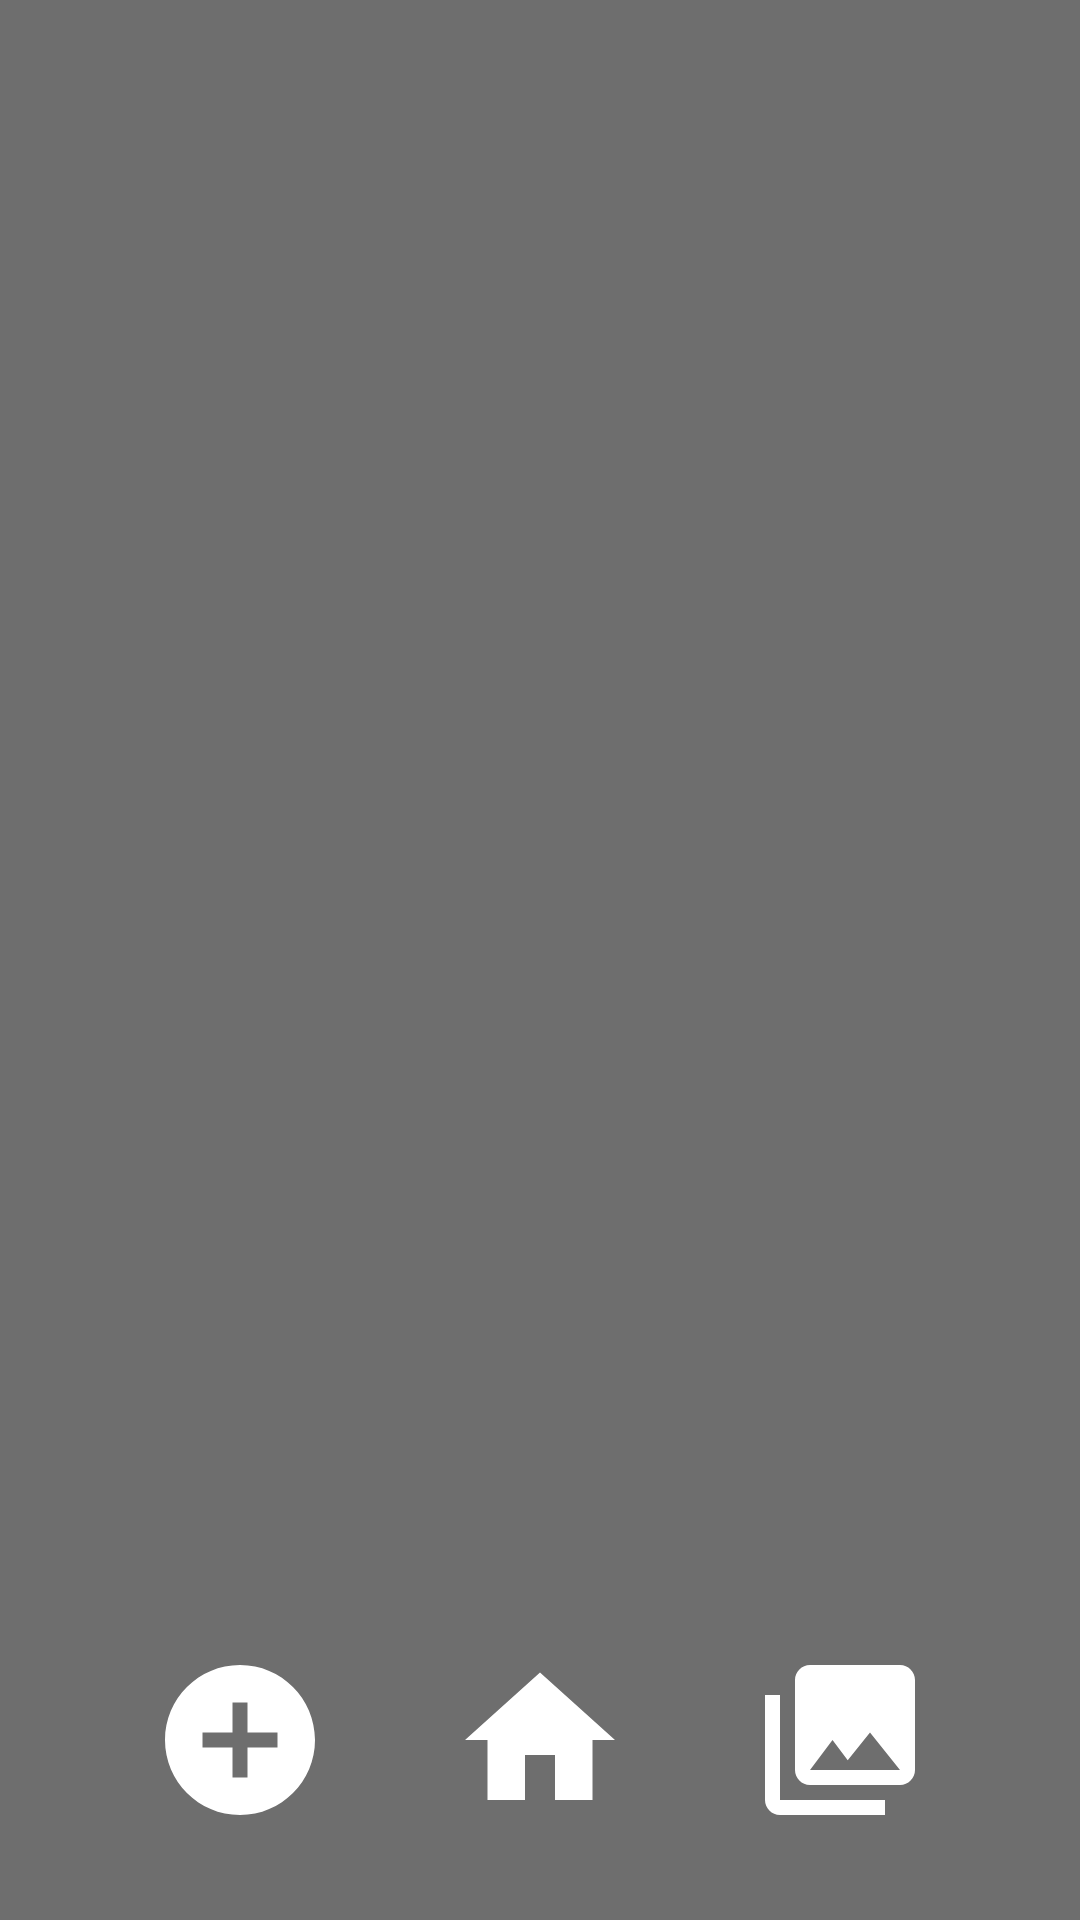

Where icons sit on this 1080×1920 app screen, as (x1, y1, x2, y2):
add circle: (165, 1665, 315, 1815)
home: (465, 1673, 615, 1800)
photo library: (765, 1665, 915, 1815)
